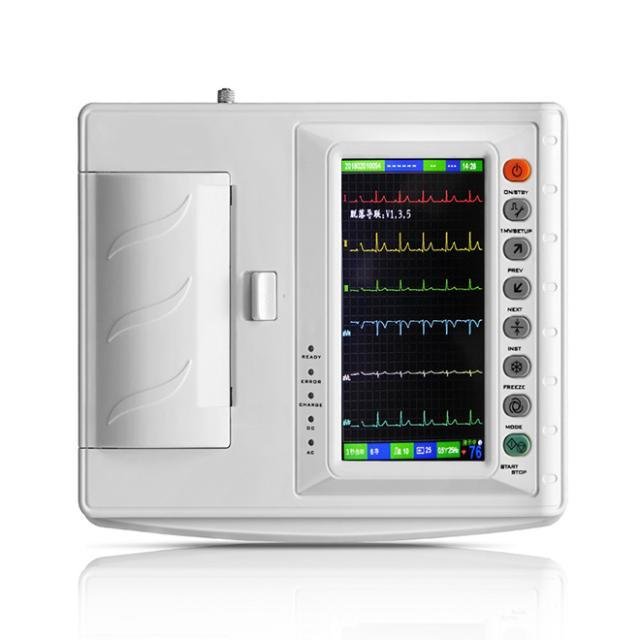Monitor: (76, 91, 566, 544)
